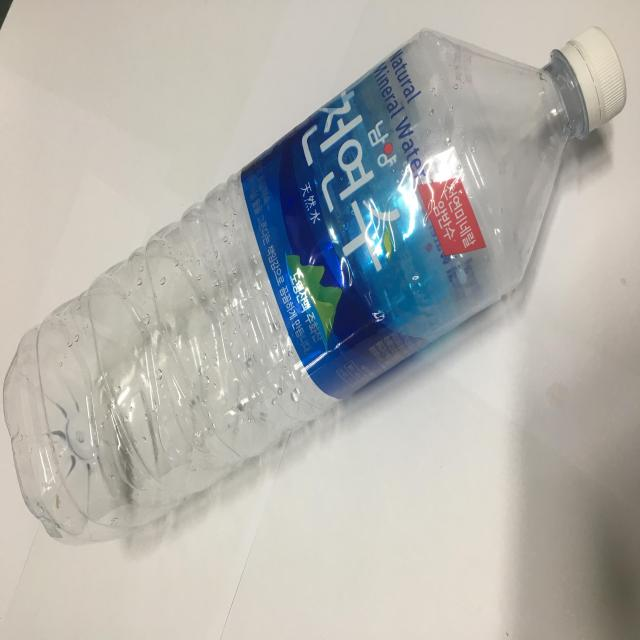bottle: (2, 24, 629, 553)
